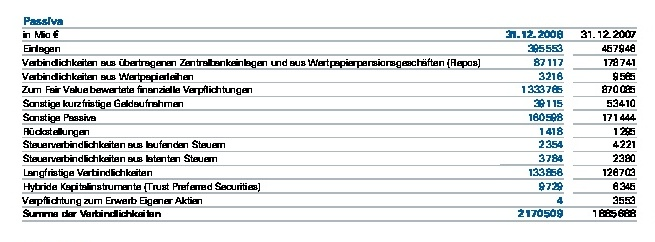table: (0, 0, 655, 242)
